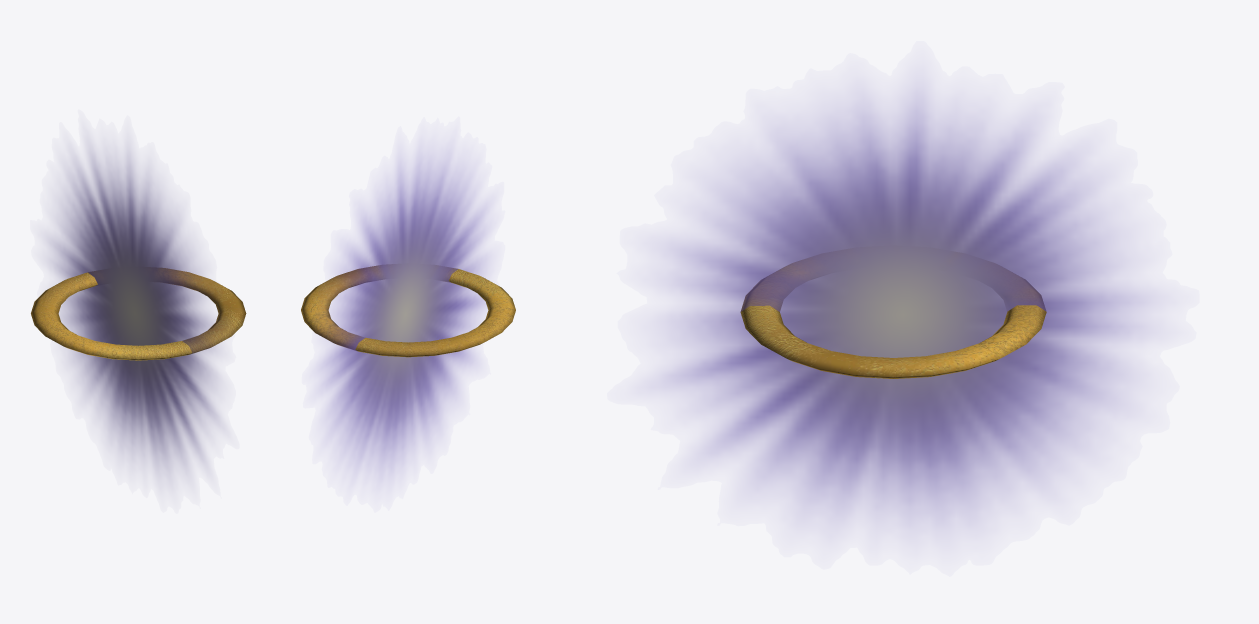
Rendered from halo.gltf.
3 renders of one model, left to right at view 1: azimuth 30°, elevation 25°; view 2: azimuth 150°, elevation 25°; view 3: azimuth 270°, elevation 25°, orthographic. The views are drawn at different scales.
Parts seen in each view (by area): view 1: mana, halo; view 2: mana, halo; view 3: mana, halo.
Part boxes in pixels (<box>): mana: <box>50,151,218,472</box>; halo: <box>31,268,246,360</box>; mana: <box>321,157,485,473</box>; halo: <box>301,265,515,357</box>; mana: <box>667,95,1143,523</box>; halo: <box>740,258,1046,378</box>.
Bounding box in the file's own units: 0.3658 × 0.7842 × 0.8232.
2 materials, 2 textured.
